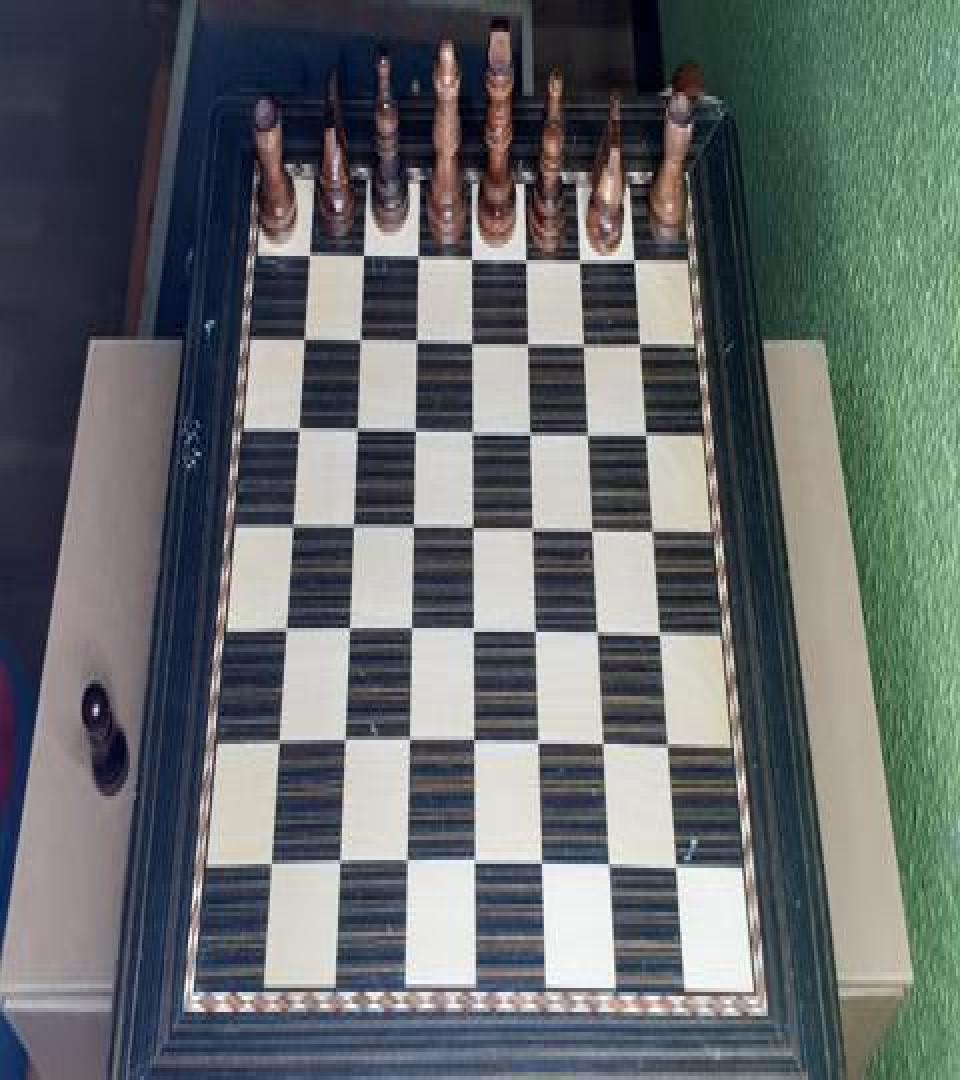xcorner: (297, 230, 315, 266), (292, 316, 310, 352), (286, 408, 304, 444), (281, 506, 299, 542), (274, 612, 292, 648), (267, 726, 285, 762), (260, 850, 278, 886), (352, 230, 370, 266), (349, 316, 367, 352), (346, 408, 364, 444), (342, 506, 360, 542), (338, 612, 356, 648), (334, 728, 352, 764), (329, 852, 347, 888), (408, 232, 426, 268), (407, 316, 425, 352), (405, 408, 423, 444), (404, 506, 422, 542), (402, 612, 420, 648), (400, 728, 418, 764), (399, 852, 417, 888), (463, 232, 481, 268), (464, 318, 482, 354), (465, 408, 483, 444), (465, 508, 483, 544), (466, 614, 484, 650), (467, 728, 485, 764), (468, 852, 486, 888), (519, 232, 537, 268), (521, 318, 539, 354), (524, 410, 542, 446), (527, 508, 545, 544), (530, 614, 548, 650), (533, 728, 551, 764), (537, 852, 555, 888), (574, 232, 592, 268), (578, 318, 596, 354), (583, 410, 601, 446), (588, 508, 606, 544), (594, 614, 612, 650), (600, 728, 618, 764), (606, 852, 624, 888), (629, 232, 647, 268), (636, 318, 654, 354), (643, 410, 661, 446), (650, 508, 668, 544), (658, 614, 676, 650), (666, 728, 684, 764), (676, 854, 694, 890)
